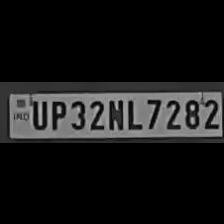2: (200, 96, 220, 128), (87, 96, 105, 130), (162, 96, 180, 130)
3: (67, 96, 85, 130)
7: (142, 95, 162, 129)
8: (182, 96, 200, 128)
L: (123, 96, 141, 130)
N: (105, 96, 124, 130)
P: (46, 97, 66, 129)
U: (28, 97, 48, 129)
